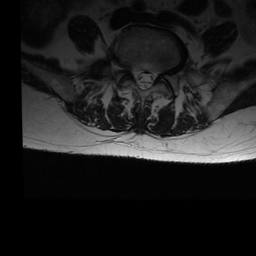CCS_normal: (141, 63, 149, 97)
LFS_stenosis: (157, 59, 165, 83)
LLS_normal: (149, 61, 157, 93)
RFS_stenosis: (124, 54, 132, 81)
RLS_normal: (132, 60, 141, 91)
